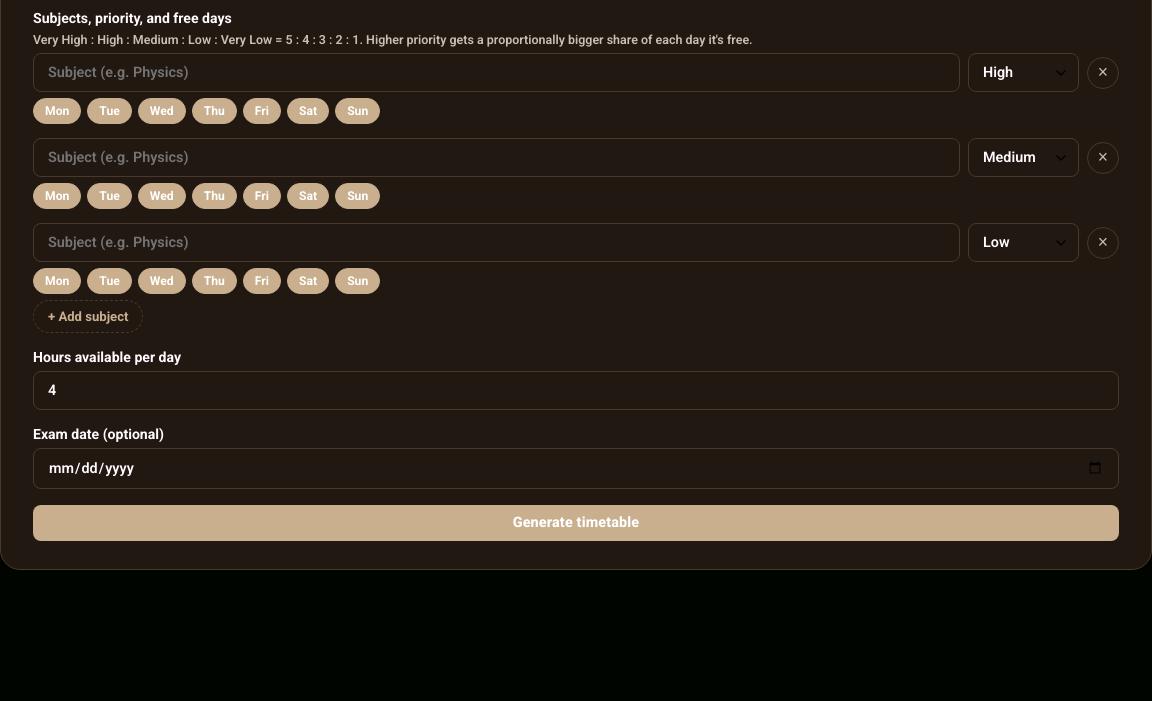
TimetableGenerator — per-subject free days › only schedules a subject on the days it's marked free
This screenshot has width=1152, height=701.
In the 1st field with placeholder "Subject (e.g. Physics)": point(496, 72) [33, 53, 960, 92], type "Physics"
In the 1st field with placeholder "Subject (e.g. Physics)": point(496, 158) [33, 138, 960, 177], type "Chemistry"
In the field with placeholder "Subject (e.g. Physics)": point(496, 242) [33, 223, 960, 262], type "Biology"
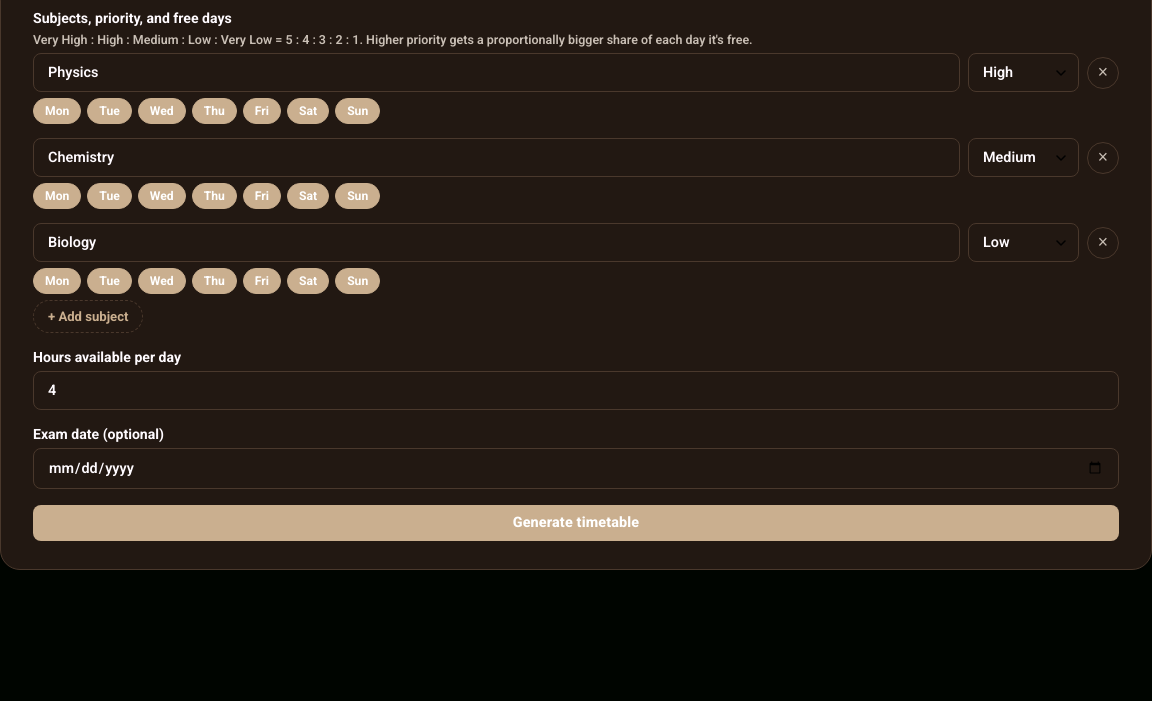
Click the 1st button "Tue": point(110, 111) [87, 98, 132, 124]
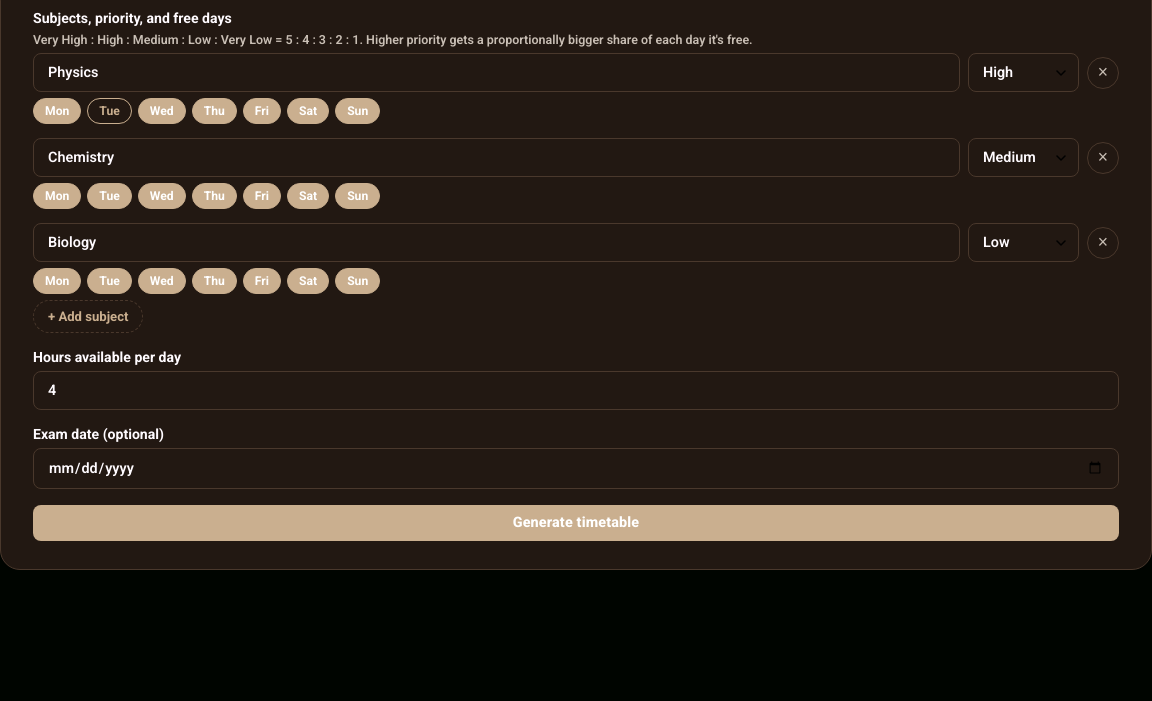
Click the 1st button "Thu": point(214, 111) [192, 98, 237, 124]
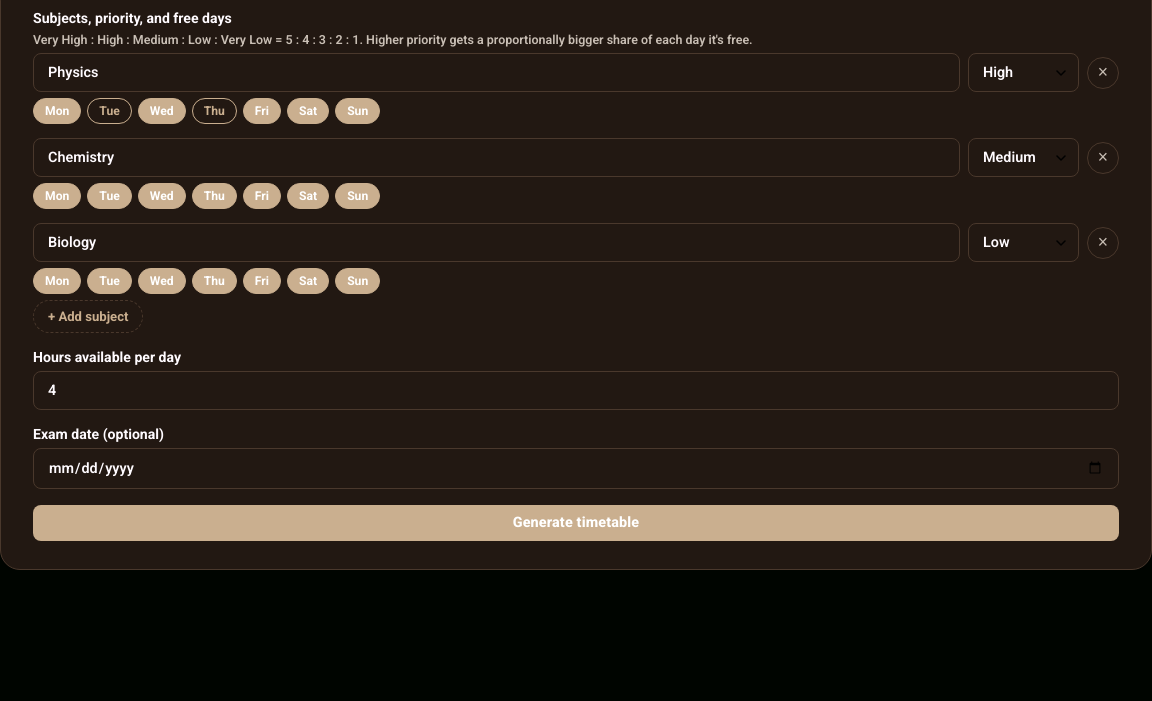
Click the 1st button "Sat": point(308, 111) [287, 98, 329, 124]
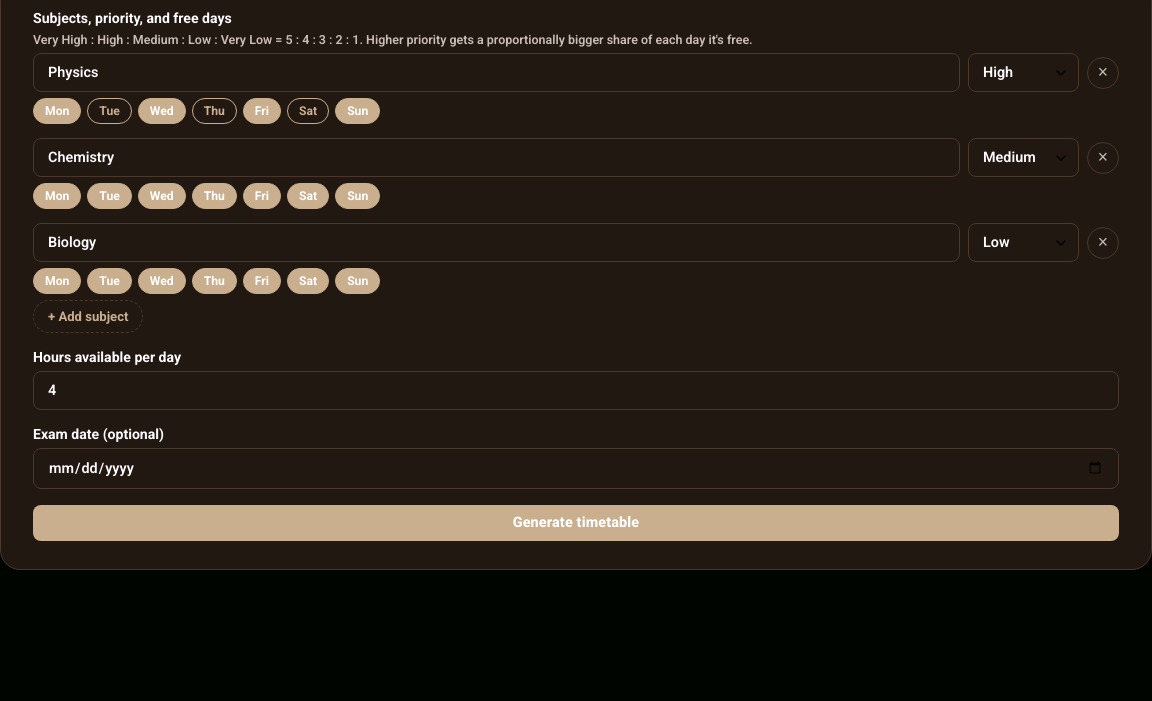
Click the 1st button "Sun": point(358, 111) [335, 98, 380, 124]
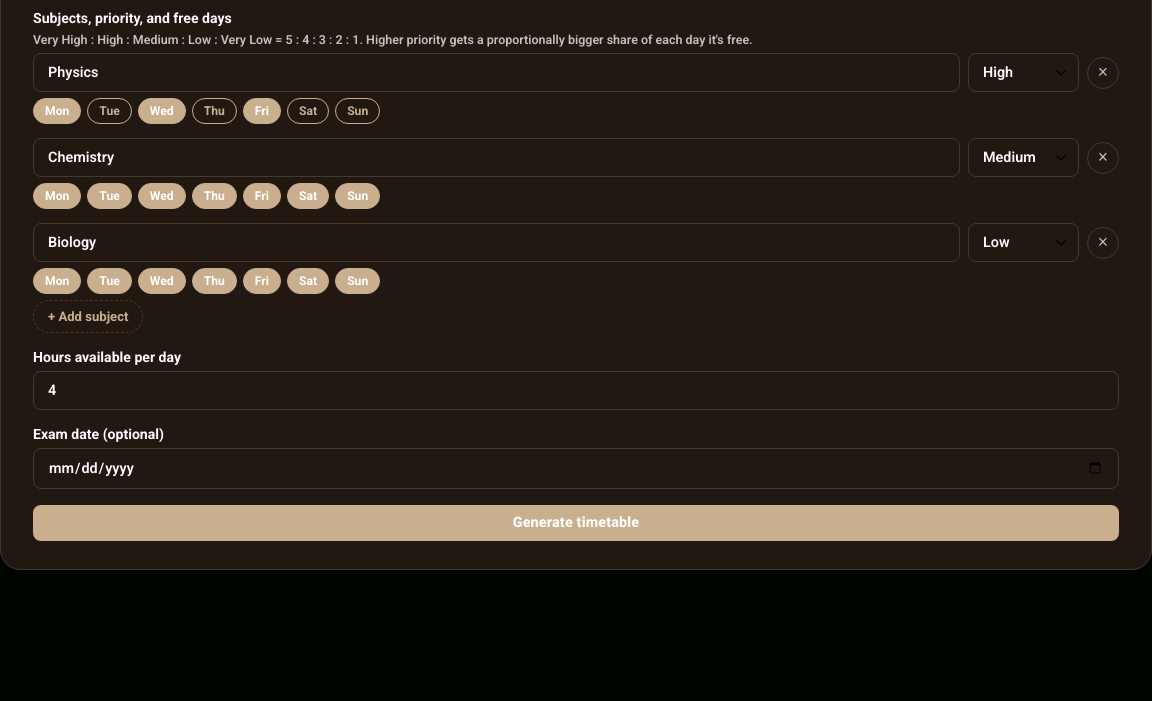
Click the button "Generate timetable": point(576, 523) [33, 505, 1119, 541]
(page scrolled)
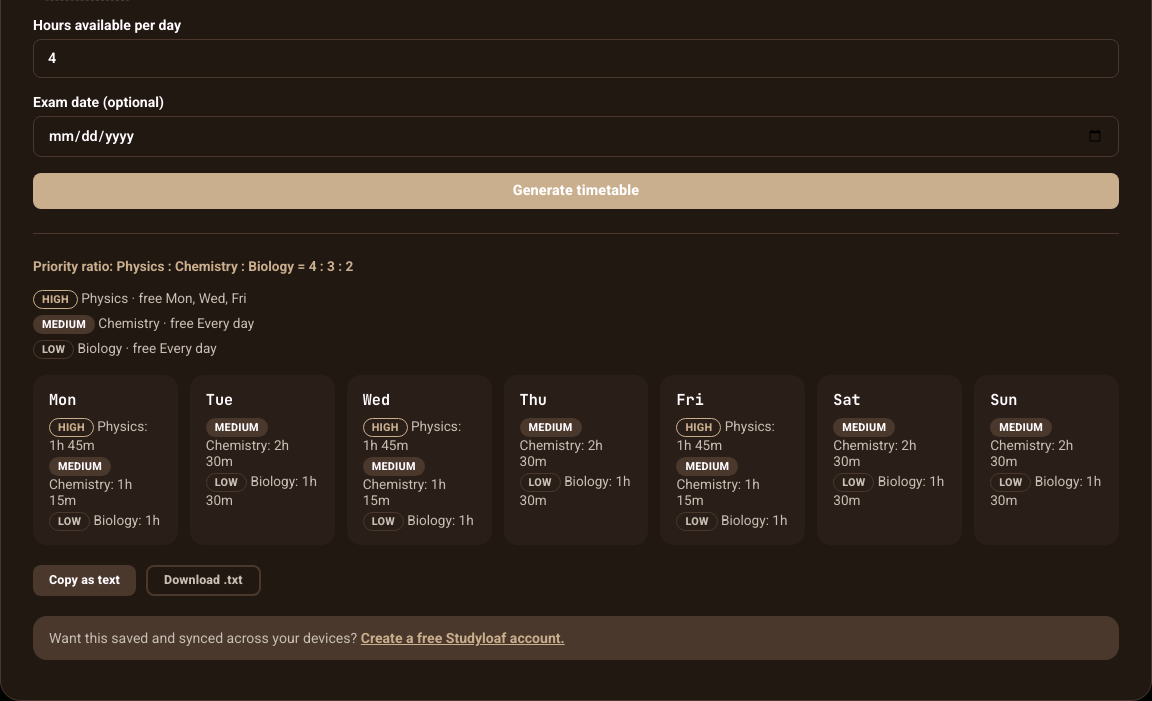
Expected: the 1st list item "High Physics: 1h 45m" is shown, [49, 418, 162, 453]
